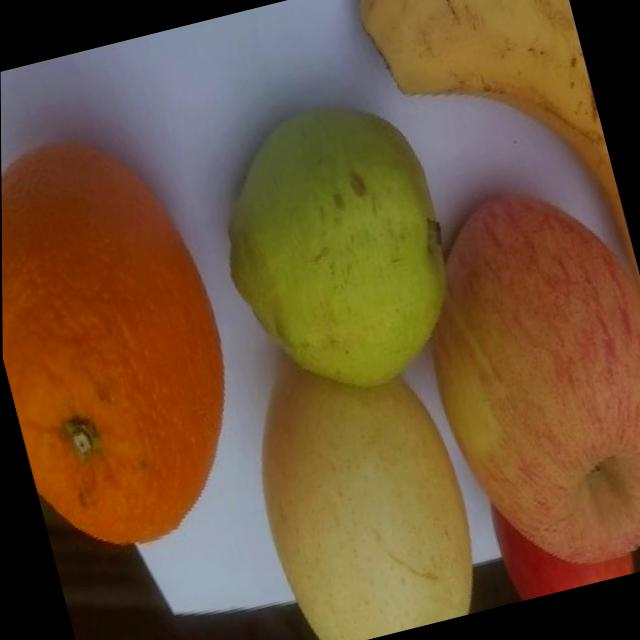Apple: (388, 161, 640, 592), (473, 462, 640, 603)
Banana: (346, 0, 607, 197)
Orange: (1, 110, 268, 569)
